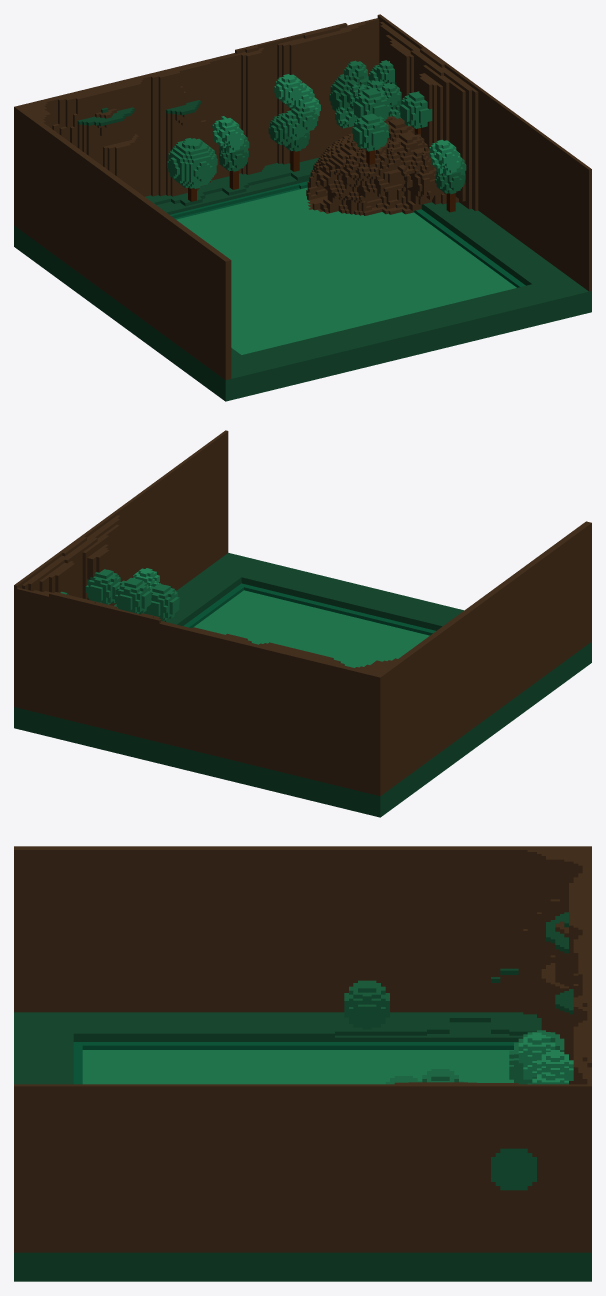
The model's file is landscape3.obj.
The picture shows the model from 3 angles, top to bottom: view 1: azimuth 30°, elevation 25°; view 2: azimuth 150°, elevation 25°; view 3: azimuth 270°, elevation 25°; orthographic projection. The views are drawn at different scales.
Size of the model in its own units: 126 by 47 by 126.
Materials: 1 (1 with a texture image).
